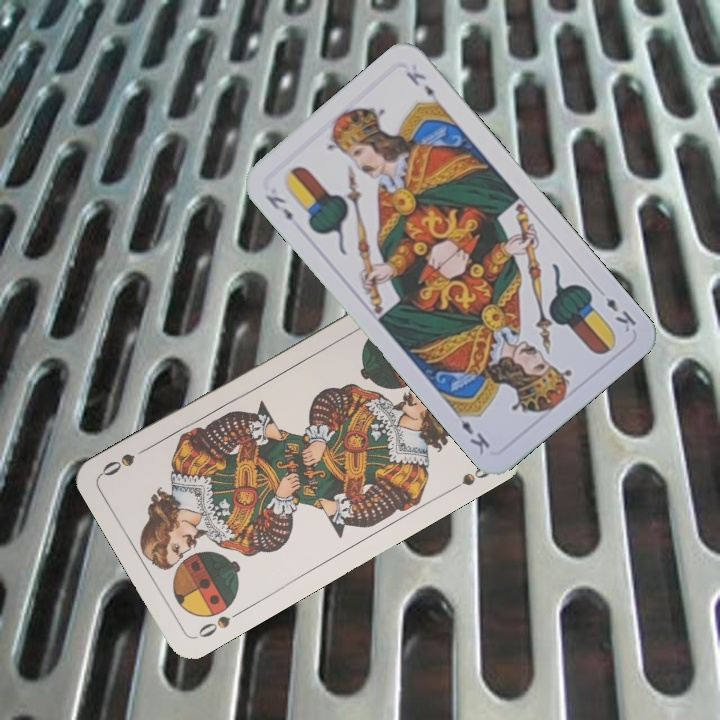EK: (601, 293, 639, 335), (261, 190, 296, 224)
SO: (192, 605, 246, 641)
